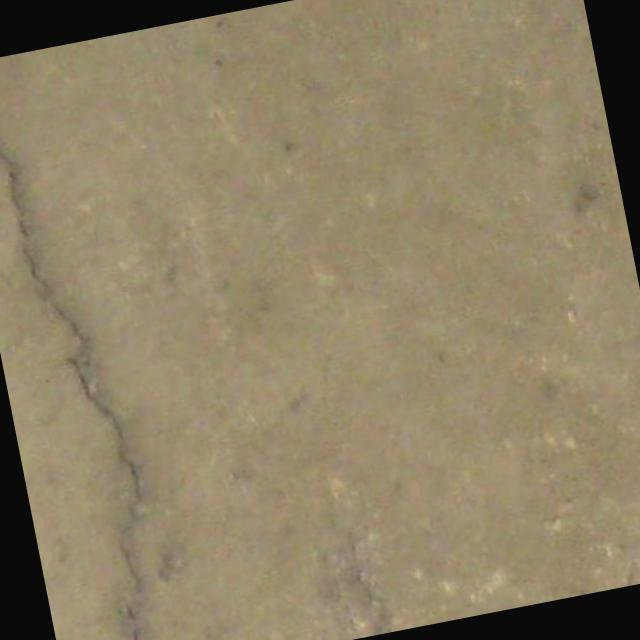crack: (0, 45, 185, 640)
